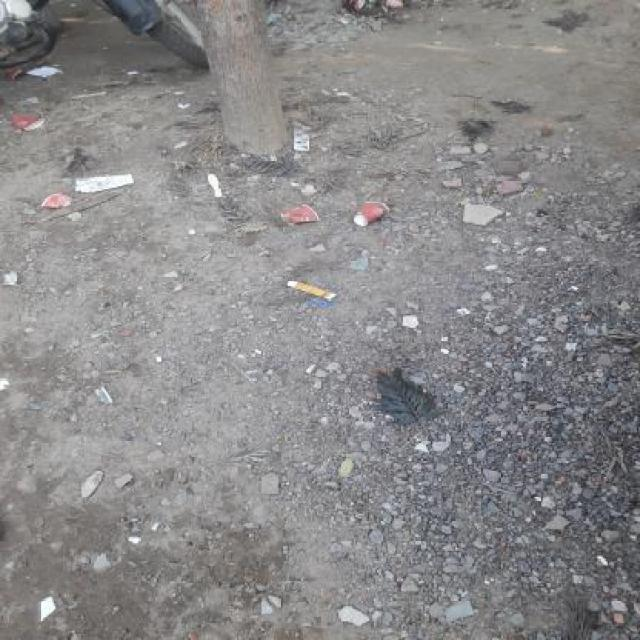garbage: (6, 106, 592, 347), (334, 360, 460, 437)
